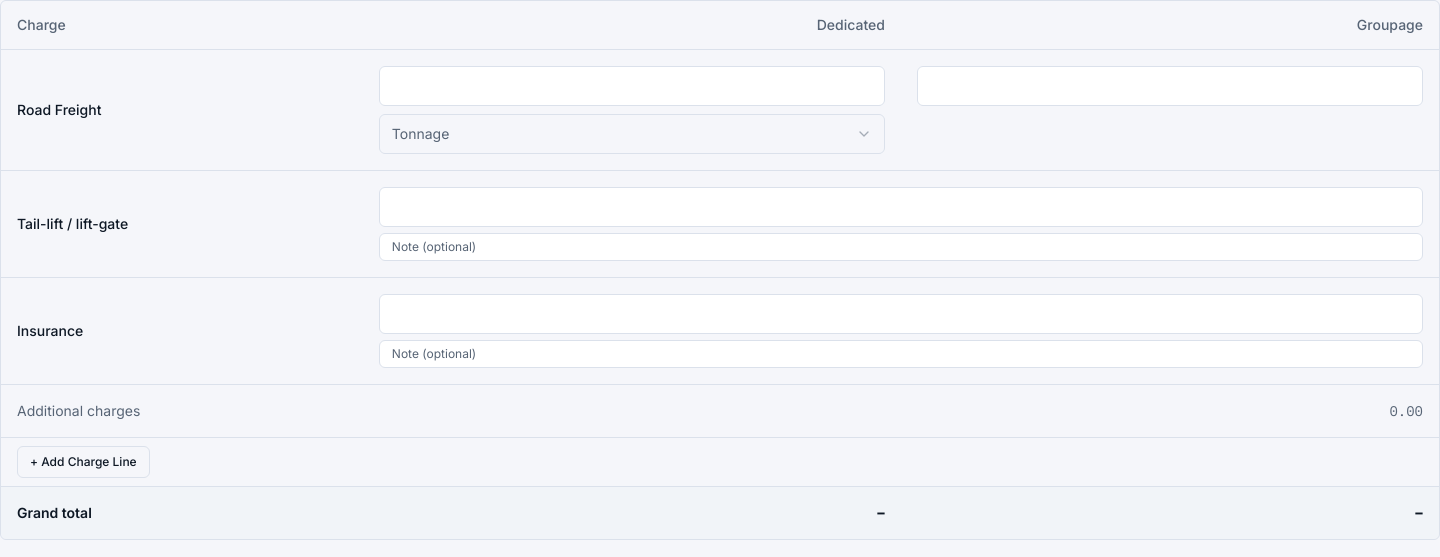
it: ChargeMatrix — Additional charges subtotal + Grand total per variant (design D1) › the Additional-charges subtotal sums every common charge row, independent of variant
This screenshot has width=1440, height=557.
Expected: the cell with test id "chargematrix-additional-subtotal" reads "0.00", [1389,402,1423,420]
Type "50" into the number field named "insurance" at (901, 314), box [379,294,1423,334]
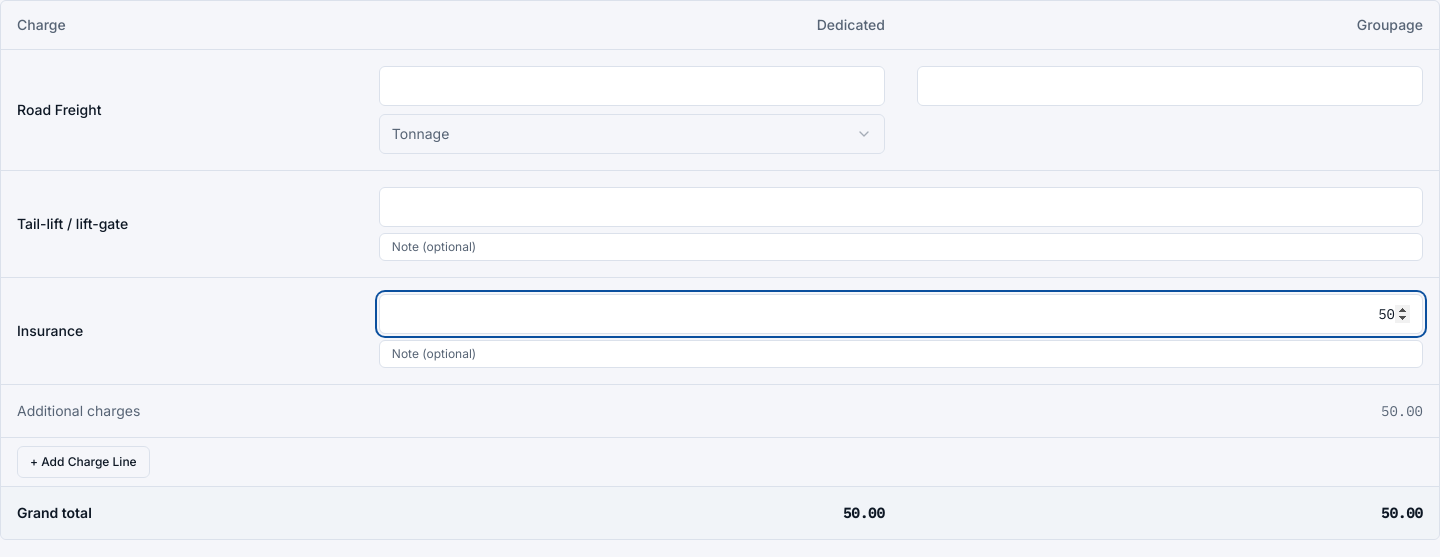
Type "25" into the number field named "tail-lift / lift-gate" at (901, 206), box [379,186,1423,226]
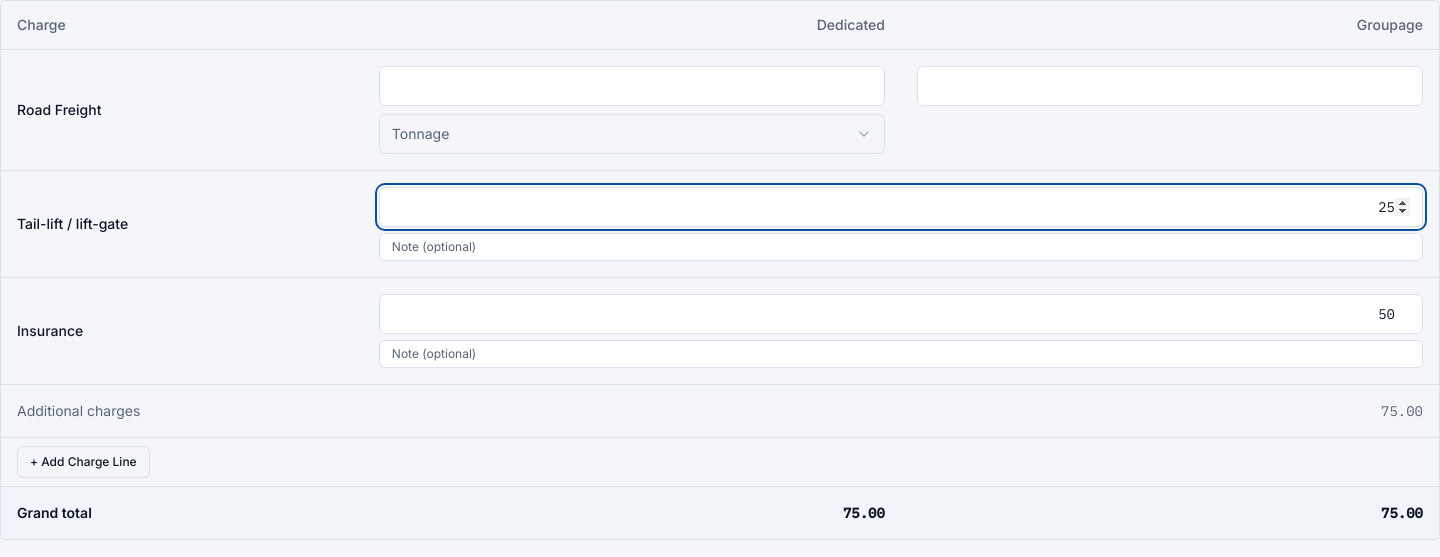
Result: the cell with test id "chargematrix-additional-subtotal" reads "75.00" at [1381,402,1423,420]
